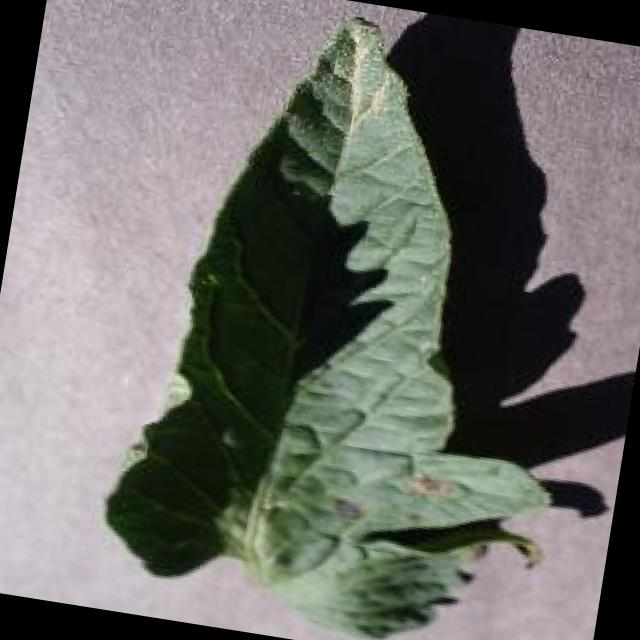Tomato_Early_Blight: (255, 419, 528, 628)
